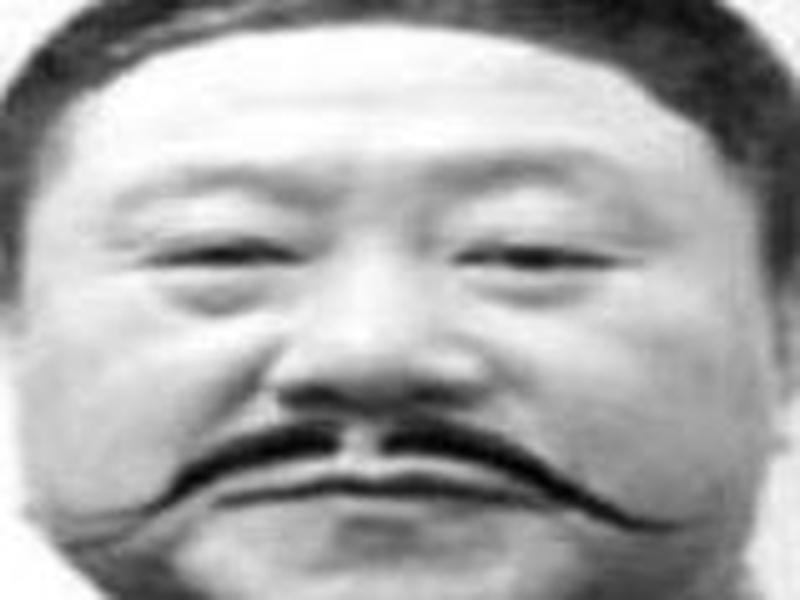without_mask: (27, 114, 755, 600)
